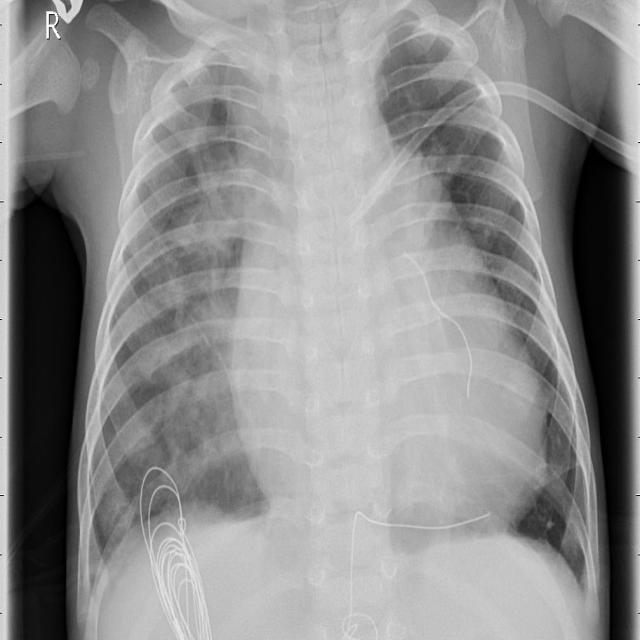low-pneumonia: (145, 123, 248, 324)
